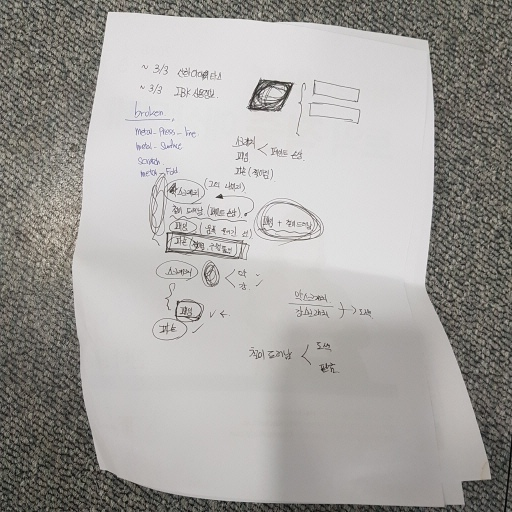Paper_3: (54, 4, 508, 509)
